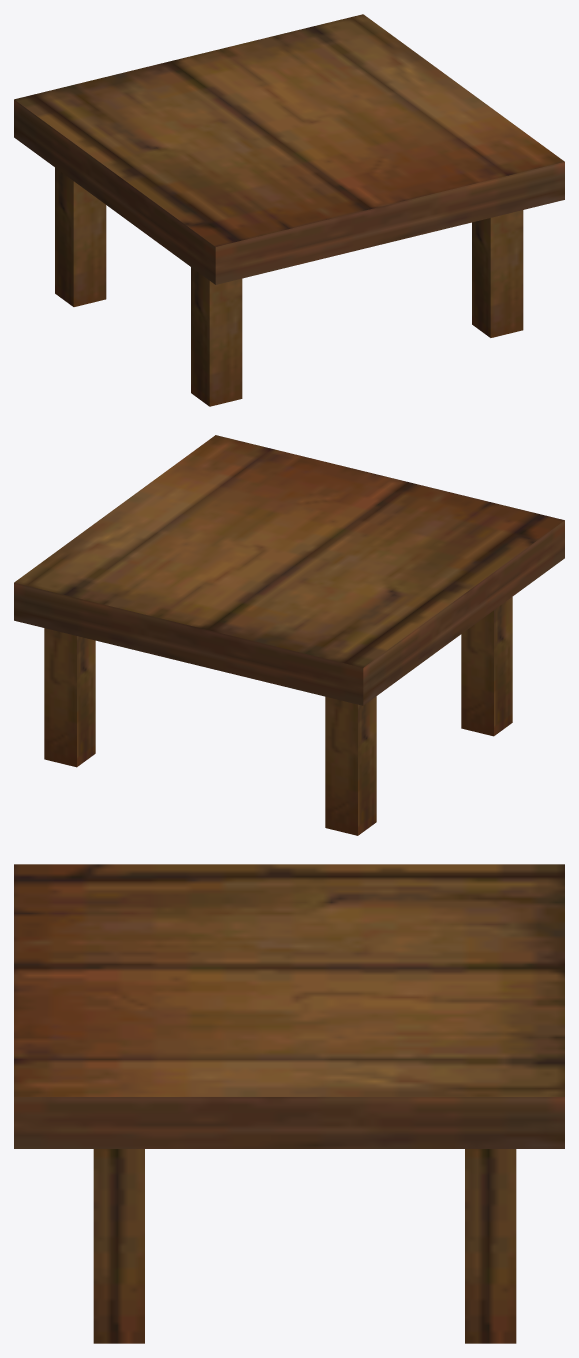
Rendered from shamo_wujian_zhuozi.fbx.
3 views of the same model, one above another, from view 1: azimuth 30°, elevation 25°; view 2: azimuth 150°, elevation 25°; view 3: azimuth 270°, elevation 25° (orthographic). The views are drawn at different scales.
Parts seen in each view (by area): view 1: polySurface316; view 2: polySurface316; view 3: polySurface316.
Part boxes in pixels (x1=…): polySurface316: x1=14, y1=14, x2=564, y2=406; polySurface316: x1=14, y1=435, x2=564, y2=835; polySurface316: x1=14, y1=864, x2=564, y2=1343.
Bounding box in the file's own units: 2 × 1.02 × 2.
